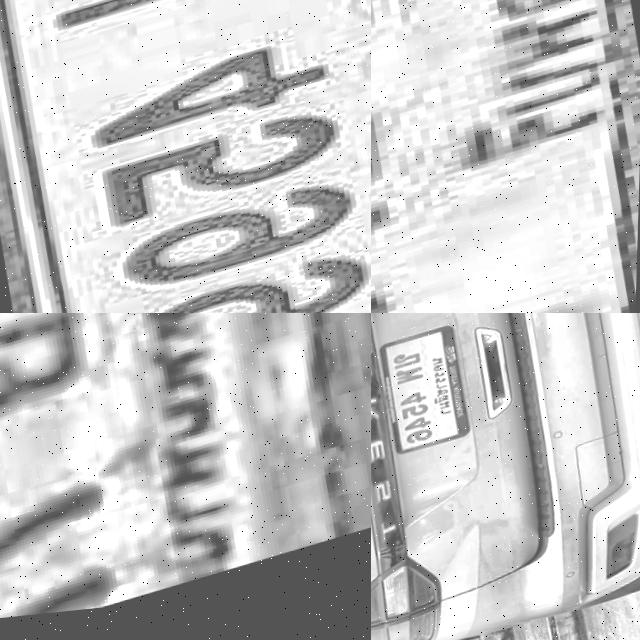license-plate: (0, 313, 358, 640), (0, 0, 371, 313), (371, 0, 640, 313), (373, 327, 479, 468)
